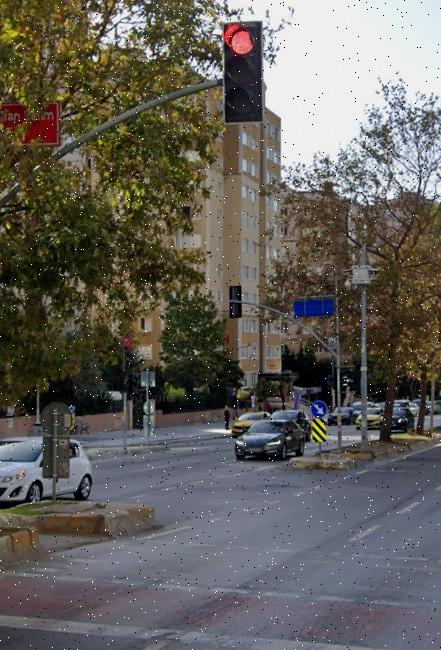redlight: (224, 19, 264, 121)
